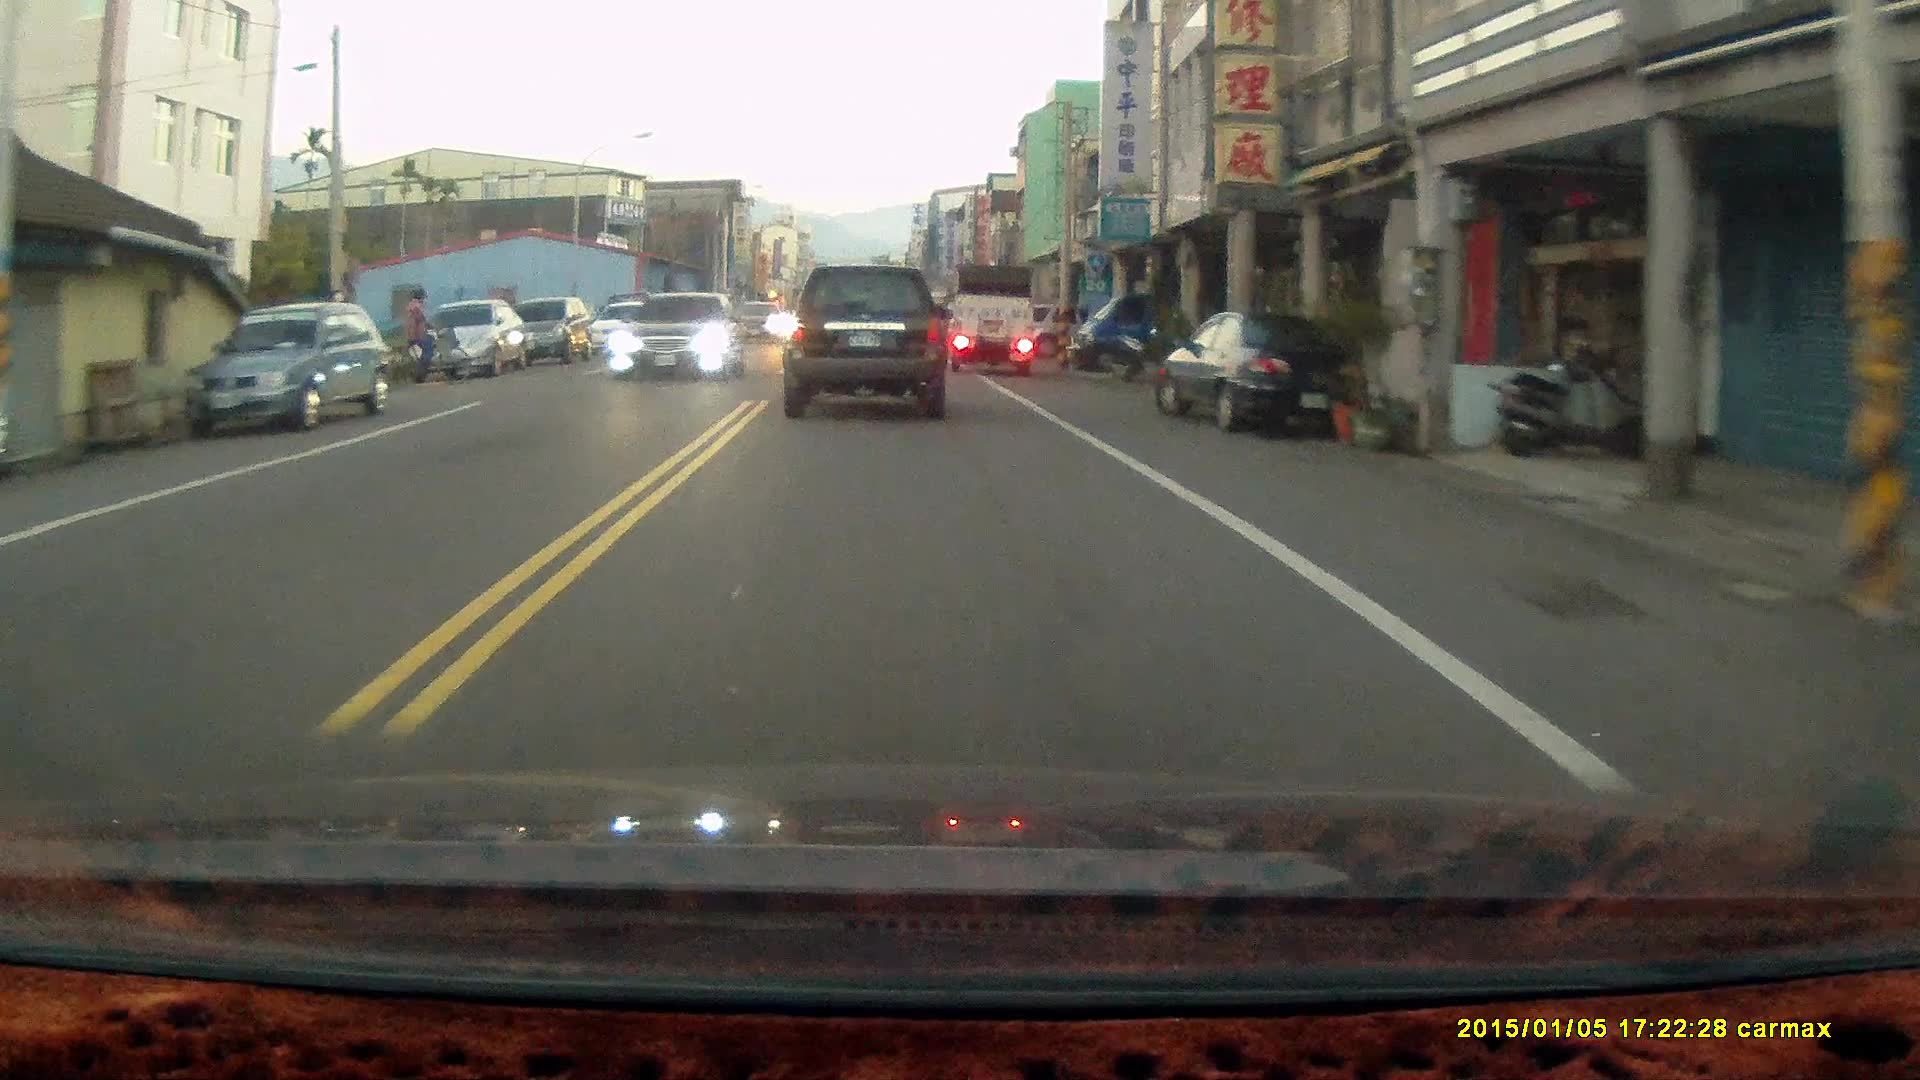rider: (373, 288, 471, 387)
vehicle: (189, 302, 397, 432), (787, 268, 956, 425), (1158, 309, 1367, 432), (1069, 278, 1212, 377), (607, 291, 744, 387), (948, 258, 1036, 373), (412, 295, 528, 376), (504, 297, 593, 365)
